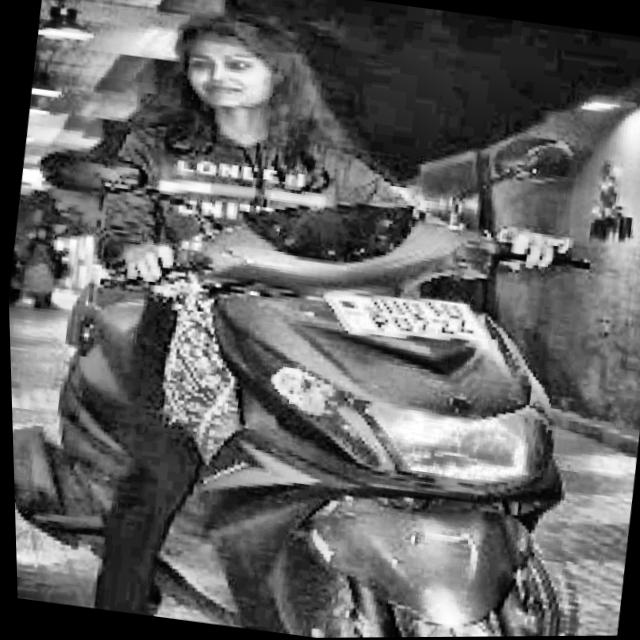motorcycle: (3, 143, 624, 640)
